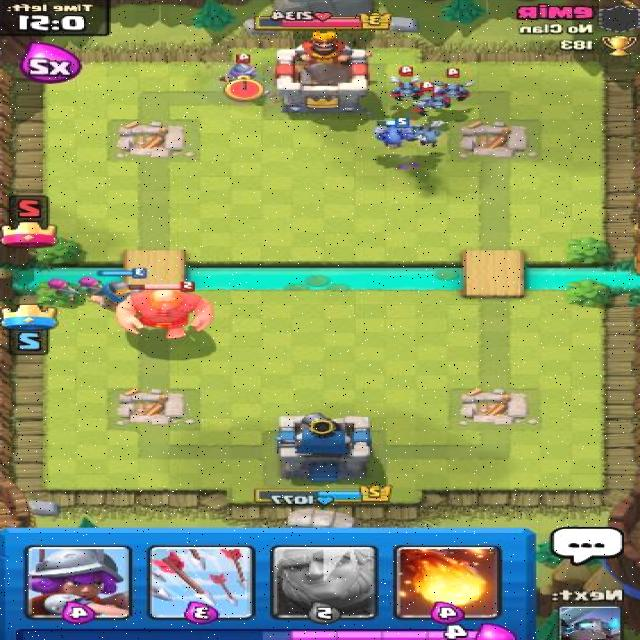Enemy-Giant: (115, 280, 218, 343)
Enemy-Minion: (426, 67, 478, 103), (383, 64, 429, 104)
Enemy-Musketeer: (214, 51, 274, 102)
Player-Archer: (73, 272, 109, 304), (44, 275, 80, 306)
Player-Knight: (89, 266, 154, 312)
Player-Minion: (408, 80, 450, 116), (404, 119, 447, 151), (370, 117, 413, 148)
